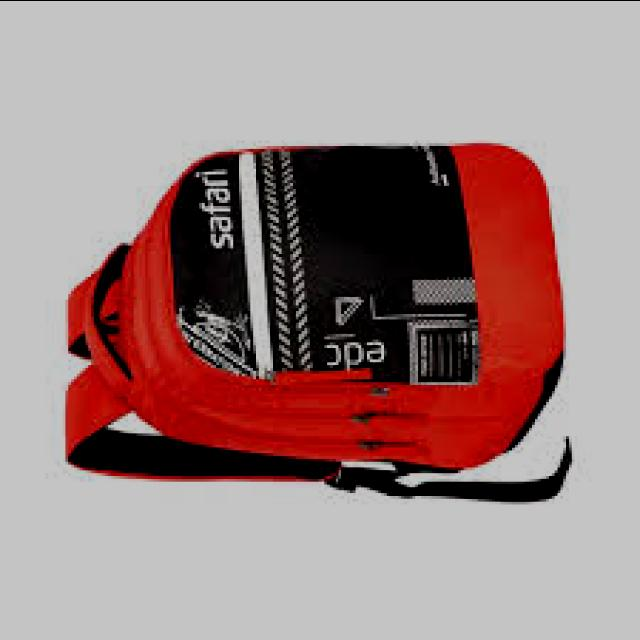backpack: (64, 144, 573, 505)
